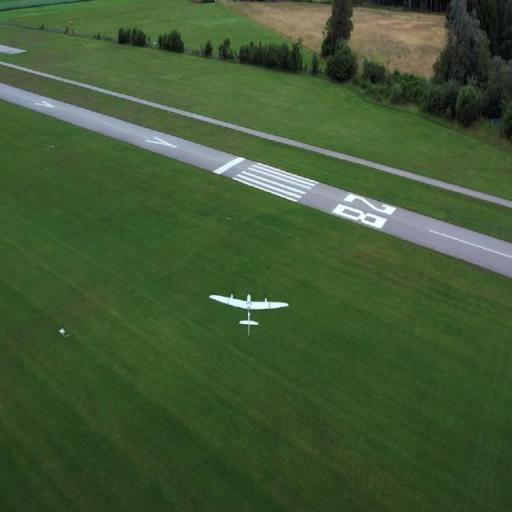uav: (208, 286, 290, 348)
